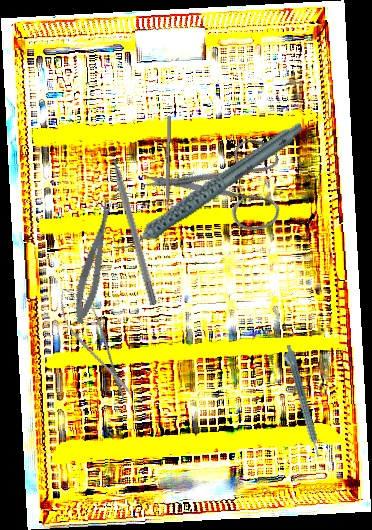Handpiece: (94, 119, 321, 256), (279, 343, 323, 460)
Iris Scissors: (136, 103, 309, 274)
Micro Scissor: (49, 281, 142, 405), (67, 196, 123, 326)
Pusher: (105, 138, 160, 306), (165, 115, 171, 227)
